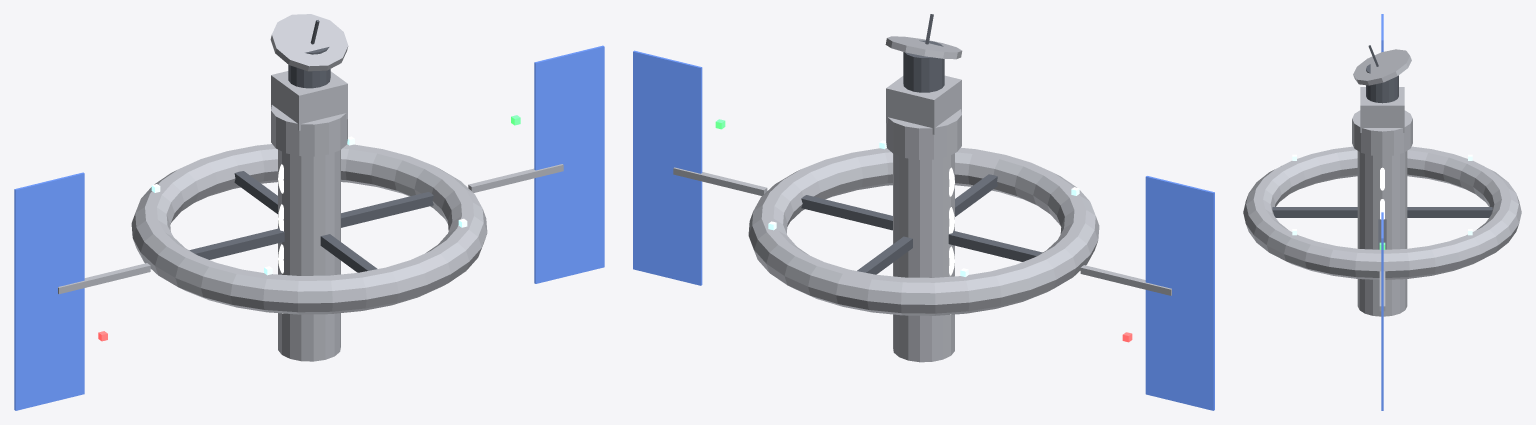
The model's file is station.glb.
3 renders of one model, left to right at view 1: azimuth 30°, elevation 25°; view 2: azimuth 150°, elevation 25°; view 3: azimuth 270°, elevation 25°, orthographic. The views are drawn at different scales.
Parts seen in each view (by area): view 1: Station; view 2: Station; view 3: Station.
Boxes of the visible parts, x1=… form: Station: x1=14, y1=14, x2=604, y2=410; Station: x1=633, y1=14, x2=1214, y2=410; Station: x1=1243, y1=14, x2=1521, y2=410.
Size of the model in its own units: 38.5 by 20.87 by 20.2.
